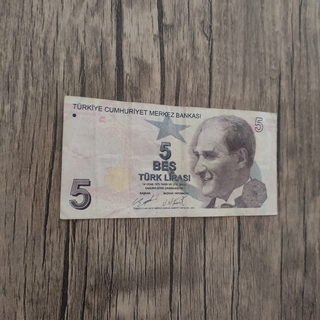5TLFront: (59, 95, 278, 220)
